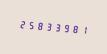eight: (35, 18, 43, 33), (71, 21, 79, 36)
five: (26, 17, 34, 32)
nine: (62, 20, 70, 35)
one: (80, 22, 88, 37)
three: (44, 19, 52, 33), (53, 20, 61, 34)
two: (17, 16, 25, 31)
